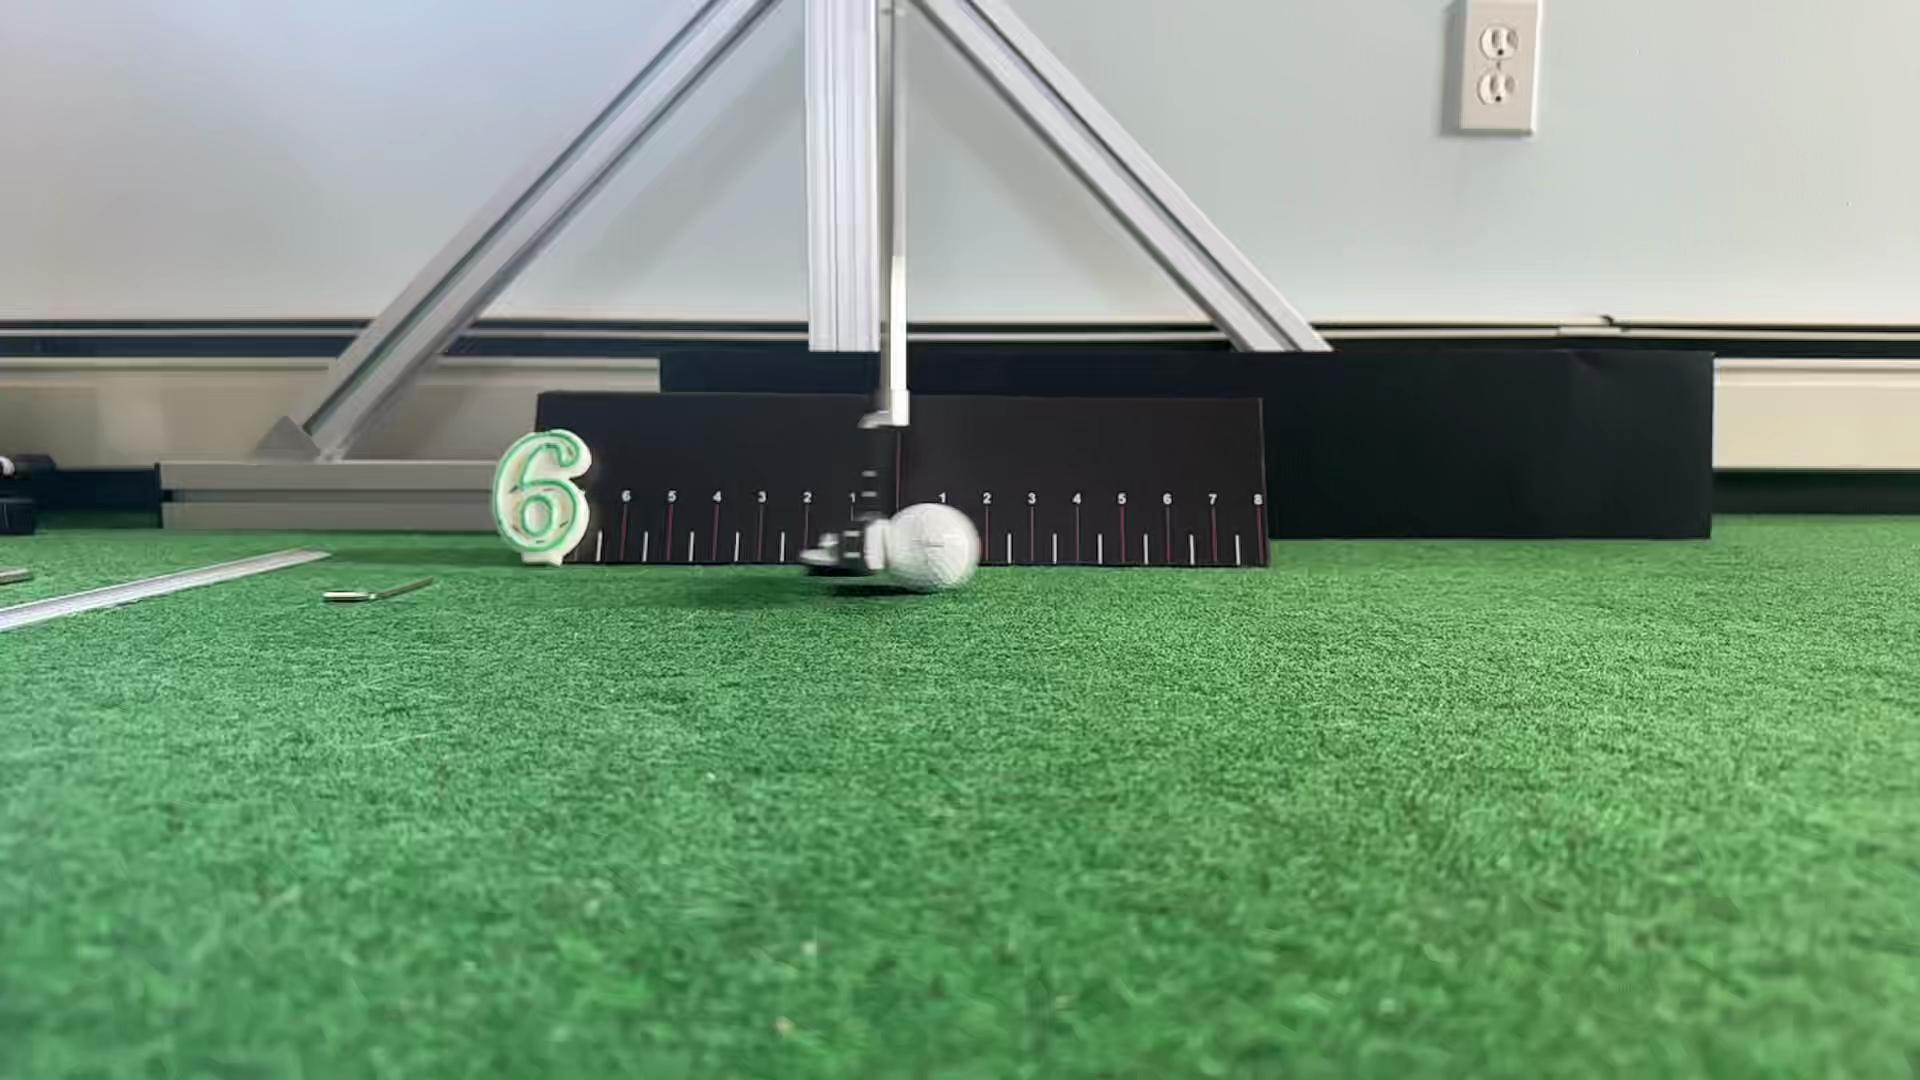golfball: (885, 504, 978, 591)
